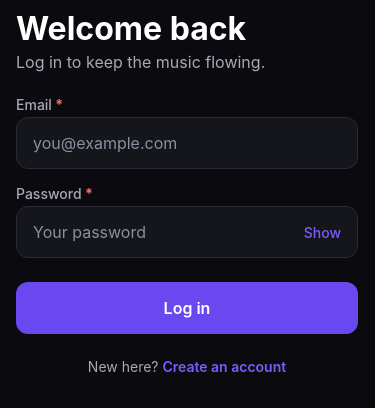
LoginScreen › shows an inline error for a malformed email
Type "not-an-email" into the field with test id "login-email" at [187, 143], box x1=33 y1=125 x2=341 y2=161
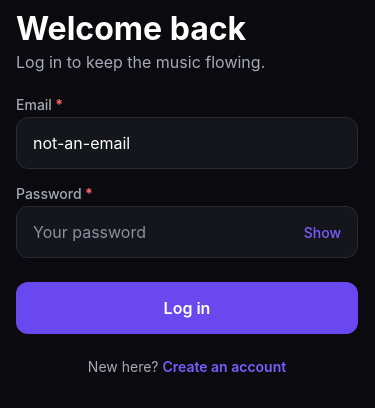
Type "some-password" into the password field with test id "login-password" at [164, 232], box x1=33 y1=214 x2=296 y2=250
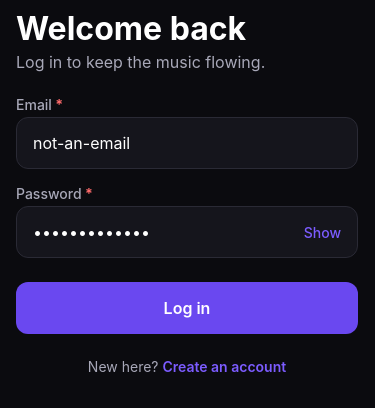
Click the button with test id "login-submit" at [187, 308], box x1=16 y1=282 x2=358 y2=334
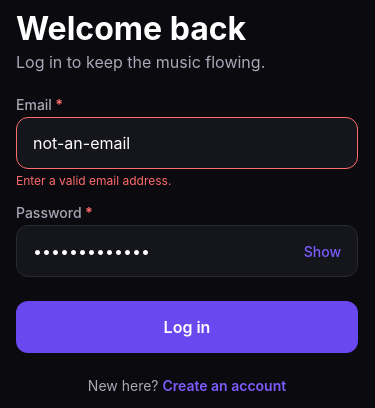
Result: the text "Enter a valid email address." is shown at x1=16 y1=173 x2=171 y2=188
